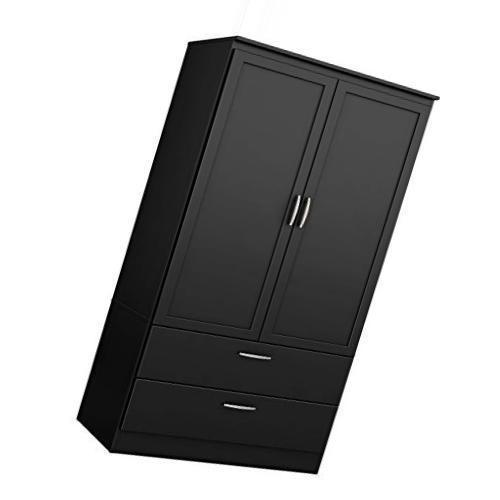Armario: (73, 34, 446, 481)
